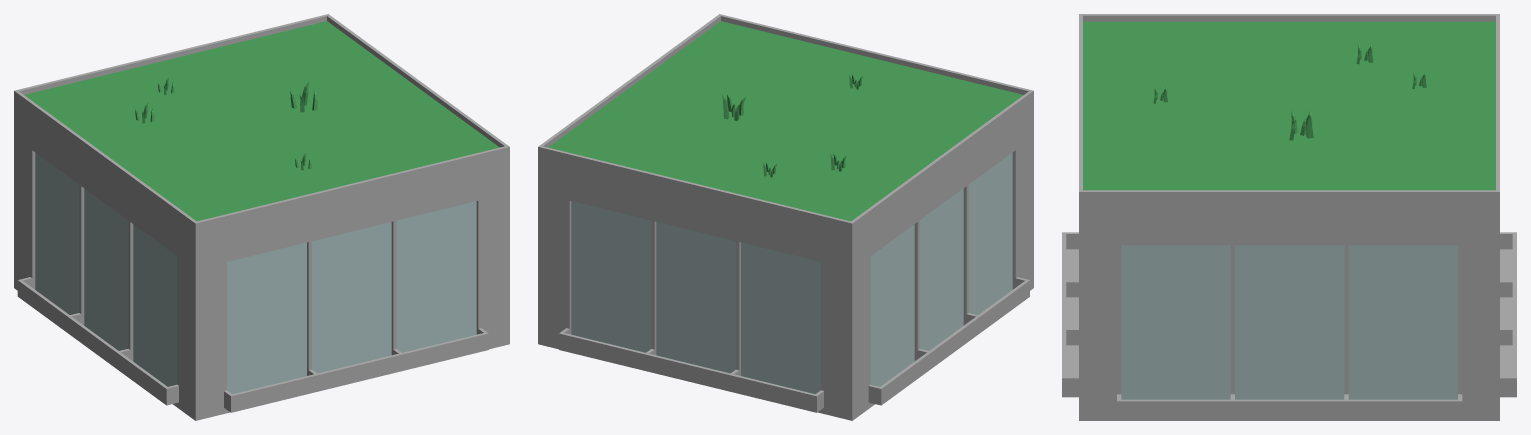
The model's file is TopElement1.fbx.
3 views of the same model, side by side, from view 1: azimuth 30°, elevation 25°; view 2: azimuth 150°, elevation 25°; view 3: azimuth 270°, elevation 25° (orthographic). The views are drawn at different scales.
Visible parts, largest first — view 1: Cube.077; view 2: Cube.077; view 3: Cube.077.
Boxes of the visible parts, left/top/right/bottom form: Cube.077: left=14, top=14, right=509, bottom=420; Cube.077: left=538, top=14, right=1033, bottom=420; Cube.077: left=1062, top=14, right=1516, bottom=420.
Size of the model in its own units: 108 by 65.43 by 108.
